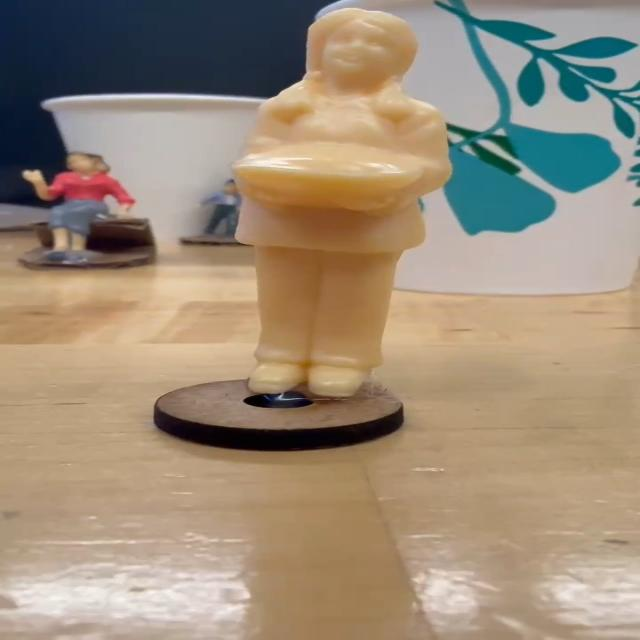Unauthorized: (228, 4, 454, 404)
